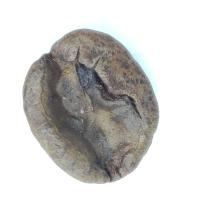NG: (37, 41, 145, 169)
